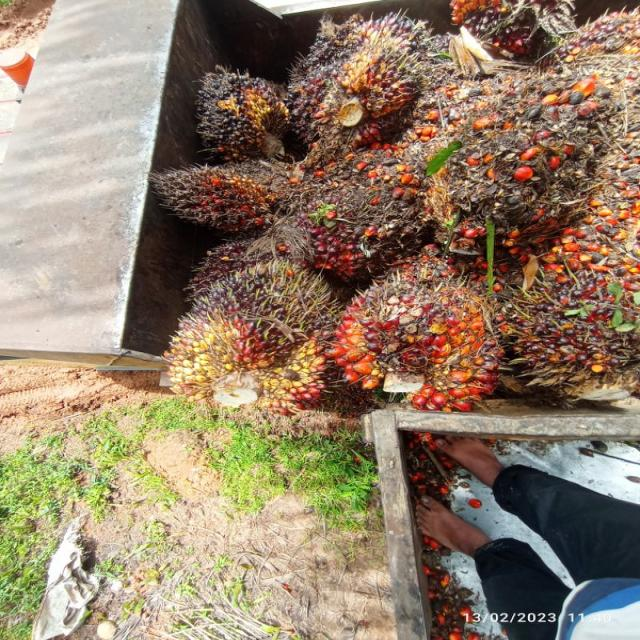fraksi 00: (148, 242, 344, 439), (180, 52, 298, 157)
fraksi 1: (276, 11, 440, 144), (516, 250, 636, 407), (278, 173, 410, 279)
fraksi 3: (315, 237, 505, 435)
fraksi 4: (144, 159, 274, 244)
